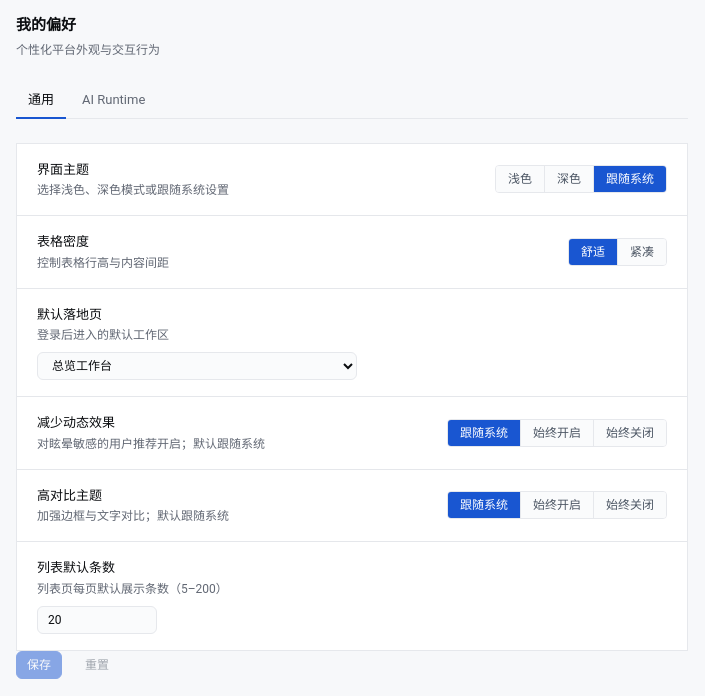
Scenario: Settings page › 重置 reverts form to server snapshot
// Change theme
Click the button "深色". click: [570, 179]
box: [545,166,594,192]
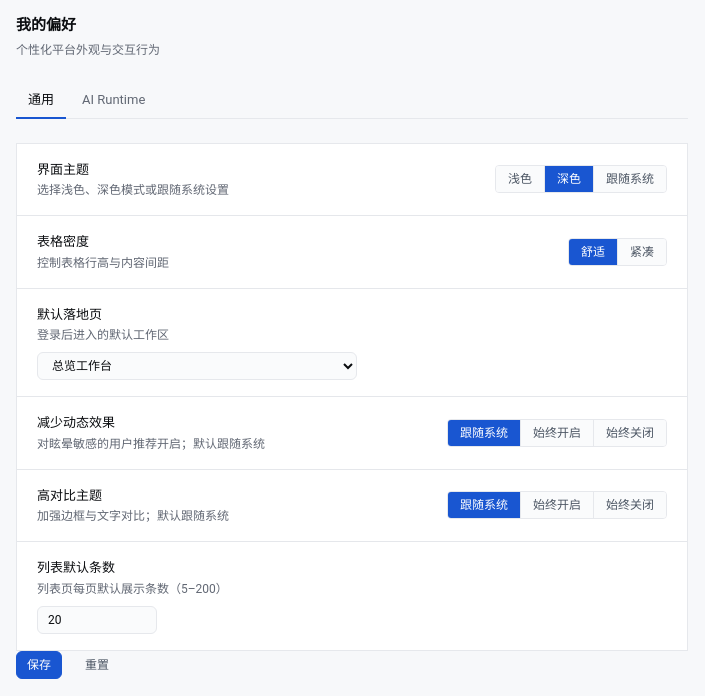
Now the button with aria-label "保存偏好" is enabled, box [16,650,62,678]
Click the button with aria-label "重置为上次保存". click: [97, 664]
box: [74,650,120,678]
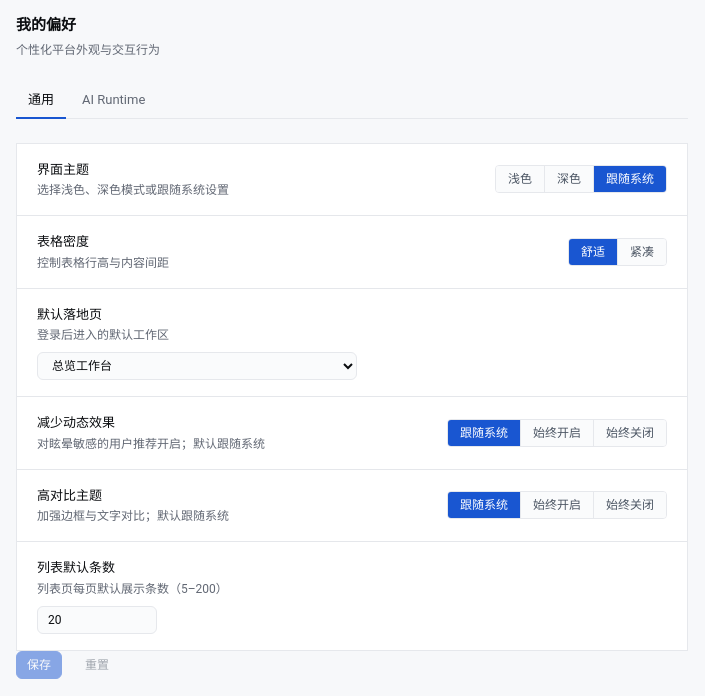
Now the button with aria-label "保存偏好" is disabled, box [16,650,62,678]
